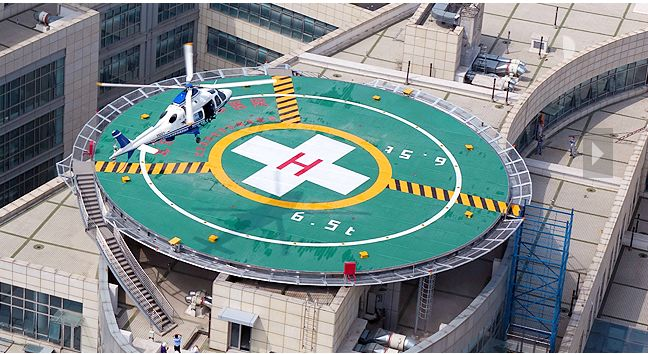H: (277, 151, 325, 176)
